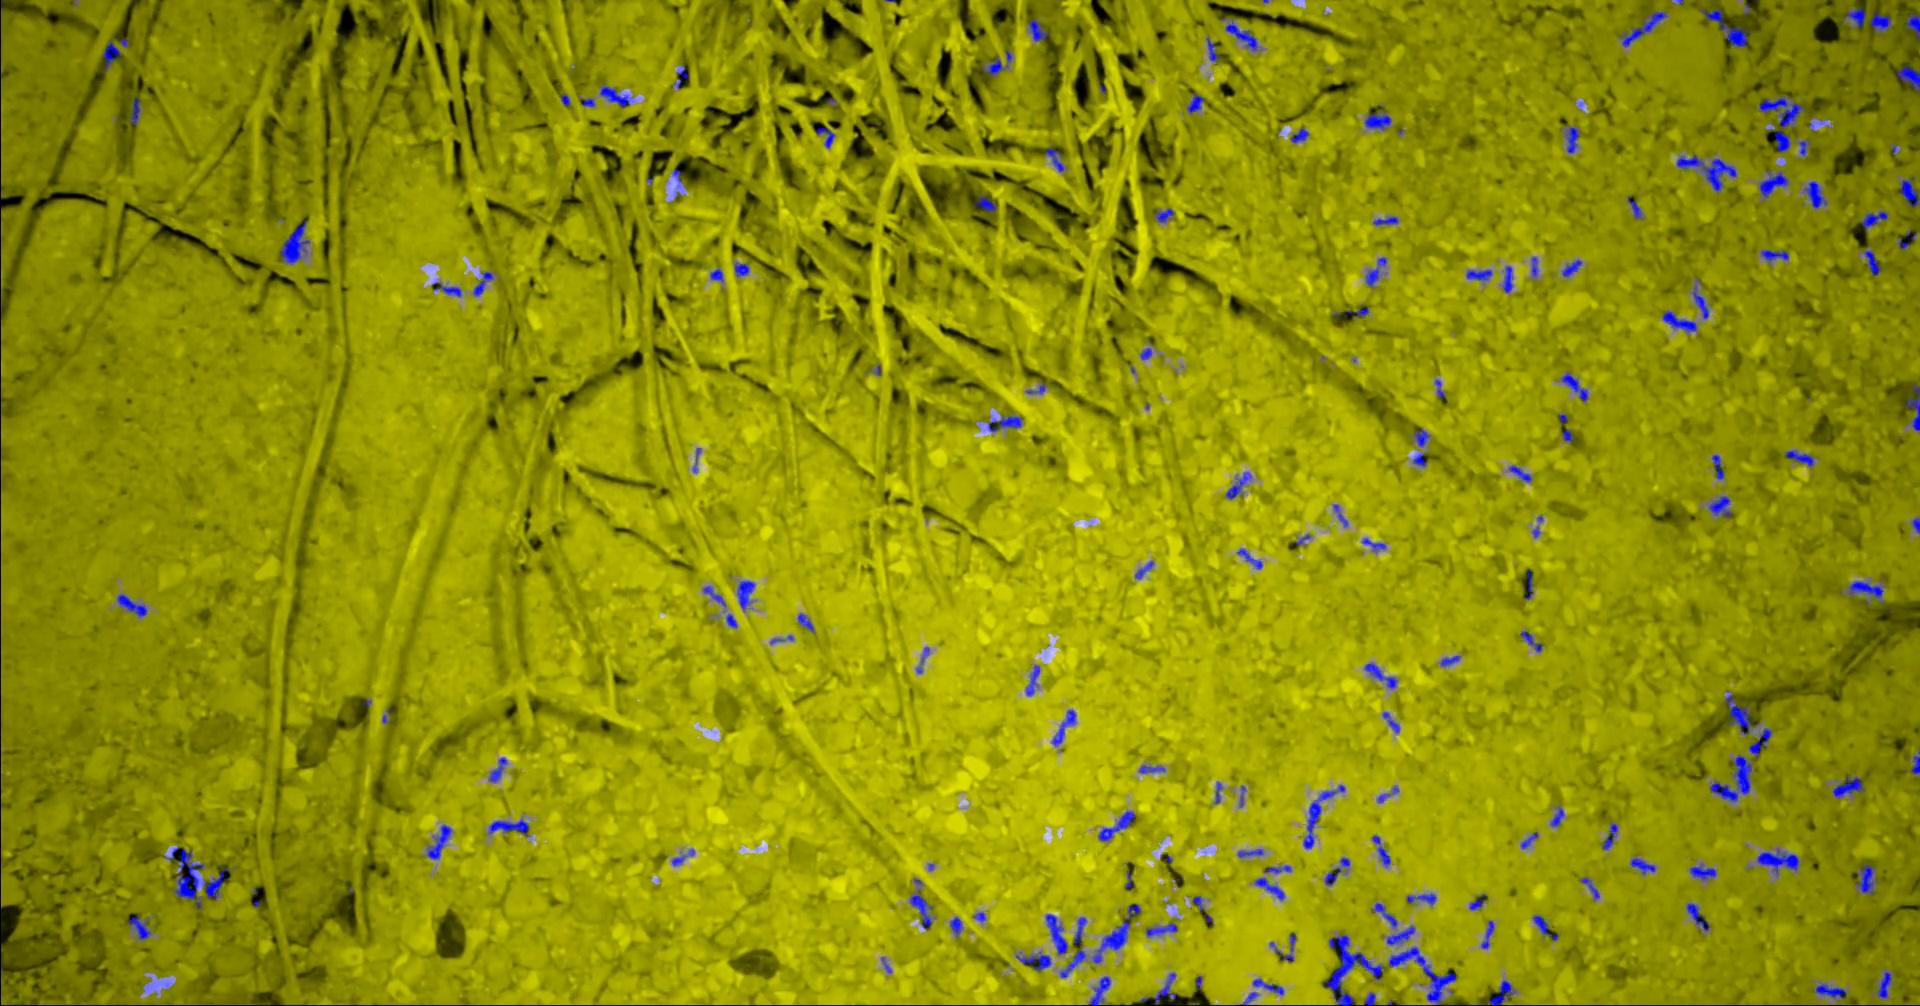ant: (1388, 946, 1457, 1005), (1092, 903, 1140, 963), (1303, 784, 1345, 848), (164, 846, 203, 908), (1676, 154, 1736, 192), (1709, 754, 1751, 801), (1700, 8, 1747, 47), (1619, 11, 1667, 46), (1724, 691, 1759, 734), (1757, 95, 1803, 127), (279, 218, 309, 263), (1756, 848, 1798, 875), (1098, 810, 1134, 841), (1225, 19, 1257, 50), (1363, 662, 1397, 688), (1051, 709, 1076, 746), (1045, 913, 1067, 954), (425, 824, 451, 859), (203, 864, 229, 898), (1848, 580, 1884, 603), (1759, 169, 1788, 197), (909, 893, 932, 929), (1269, 932, 1295, 962), (1153, 972, 1176, 1005), (1561, 373, 1587, 401), (982, 50, 1011, 75), (1662, 310, 1697, 332), (116, 593, 146, 617), (1903, 384, 1919, 431), (1225, 471, 1251, 499), (1059, 949, 1084, 977), (1255, 876, 1284, 901), (1749, 727, 1771, 757), (599, 85, 631, 107), (1832, 775, 1864, 796), (1531, 915, 1558, 940), (1015, 951, 1050, 970), (1324, 857, 1349, 885), (488, 818, 528, 835), (1855, 862, 1876, 895), (1686, 902, 1709, 931), (1087, 976, 1110, 1005), (1371, 902, 1397, 927), (1895, 65, 1919, 91), (1803, 180, 1826, 208), (1768, 126, 1790, 152), (1371, 835, 1390, 866), (1898, 177, 1919, 206), (1365, 257, 1385, 286), (126, 915, 150, 939), (1488, 981, 1512, 1005), (1385, 925, 1415, 944), (987, 415, 1022, 431), (1236, 547, 1262, 568), (1859, 210, 1887, 229), (1691, 286, 1708, 318), (102, 39, 119, 69), (1784, 448, 1813, 466), (1364, 111, 1390, 130), (1252, 978, 1283, 995), (1813, 983, 1846, 998), (737, 580, 754, 608), (1708, 495, 1731, 517), (1862, 250, 1881, 276), (472, 271, 491, 296), (1520, 630, 1542, 652), (702, 586, 725, 606), (1044, 147, 1063, 171), (1029, 18, 1048, 41), (815, 126, 834, 149), (1580, 876, 1599, 899), (488, 757, 505, 781), (1025, 664, 1039, 695), (1876, 970, 1891, 998), (1629, 857, 1655, 874), (1869, 11, 1890, 32), (432, 282, 461, 296), (1903, 13, 1919, 39), (670, 65, 688, 88), (973, 193, 996, 211), (1689, 864, 1716, 879), (1145, 923, 1177, 936), (670, 848, 695, 865), (1845, 8, 1865, 27), (1601, 823, 1617, 848), (1509, 465, 1531, 481), (1564, 126, 1578, 152), (1406, 892, 1435, 904), (1382, 711, 1399, 732), (1760, 249, 1788, 262), (1710, 453, 1724, 479), (1073, 916, 1086, 944), (1481, 920, 1493, 948), (1134, 560, 1153, 578), (1361, 537, 1385, 551), (1186, 93, 1203, 113), (1561, 259, 1581, 276), (1332, 504, 1347, 526), (1377, 786, 1398, 801), (1627, 196, 1641, 218), (1468, 893, 1487, 909), (1523, 569, 1533, 600), (1290, 126, 1308, 142), (1520, 831, 1537, 848), (1413, 428, 1429, 447), (130, 97, 140, 124), (1154, 208, 1175, 222), (1205, 37, 1217, 61), (1502, 265, 1512, 292), (1465, 269, 1492, 279), (797, 614, 813, 631), (1138, 763, 1164, 774), (1550, 807, 1563, 826), (949, 916, 961, 935), (1347, 306, 1368, 318), (1910, 748, 1919, 774), (1237, 848, 1262, 857), (1263, 865, 1291, 873), (1371, 216, 1398, 224), (734, 262, 748, 276), (1440, 655, 1459, 666), (709, 268, 723, 281), (1412, 453, 1426, 466), (1798, 140, 1810, 155), (1559, 429, 1572, 442), (1363, 992, 1375, 1005), (725, 614, 737, 627), (1139, 347, 1150, 359), (1530, 257, 1537, 276)
